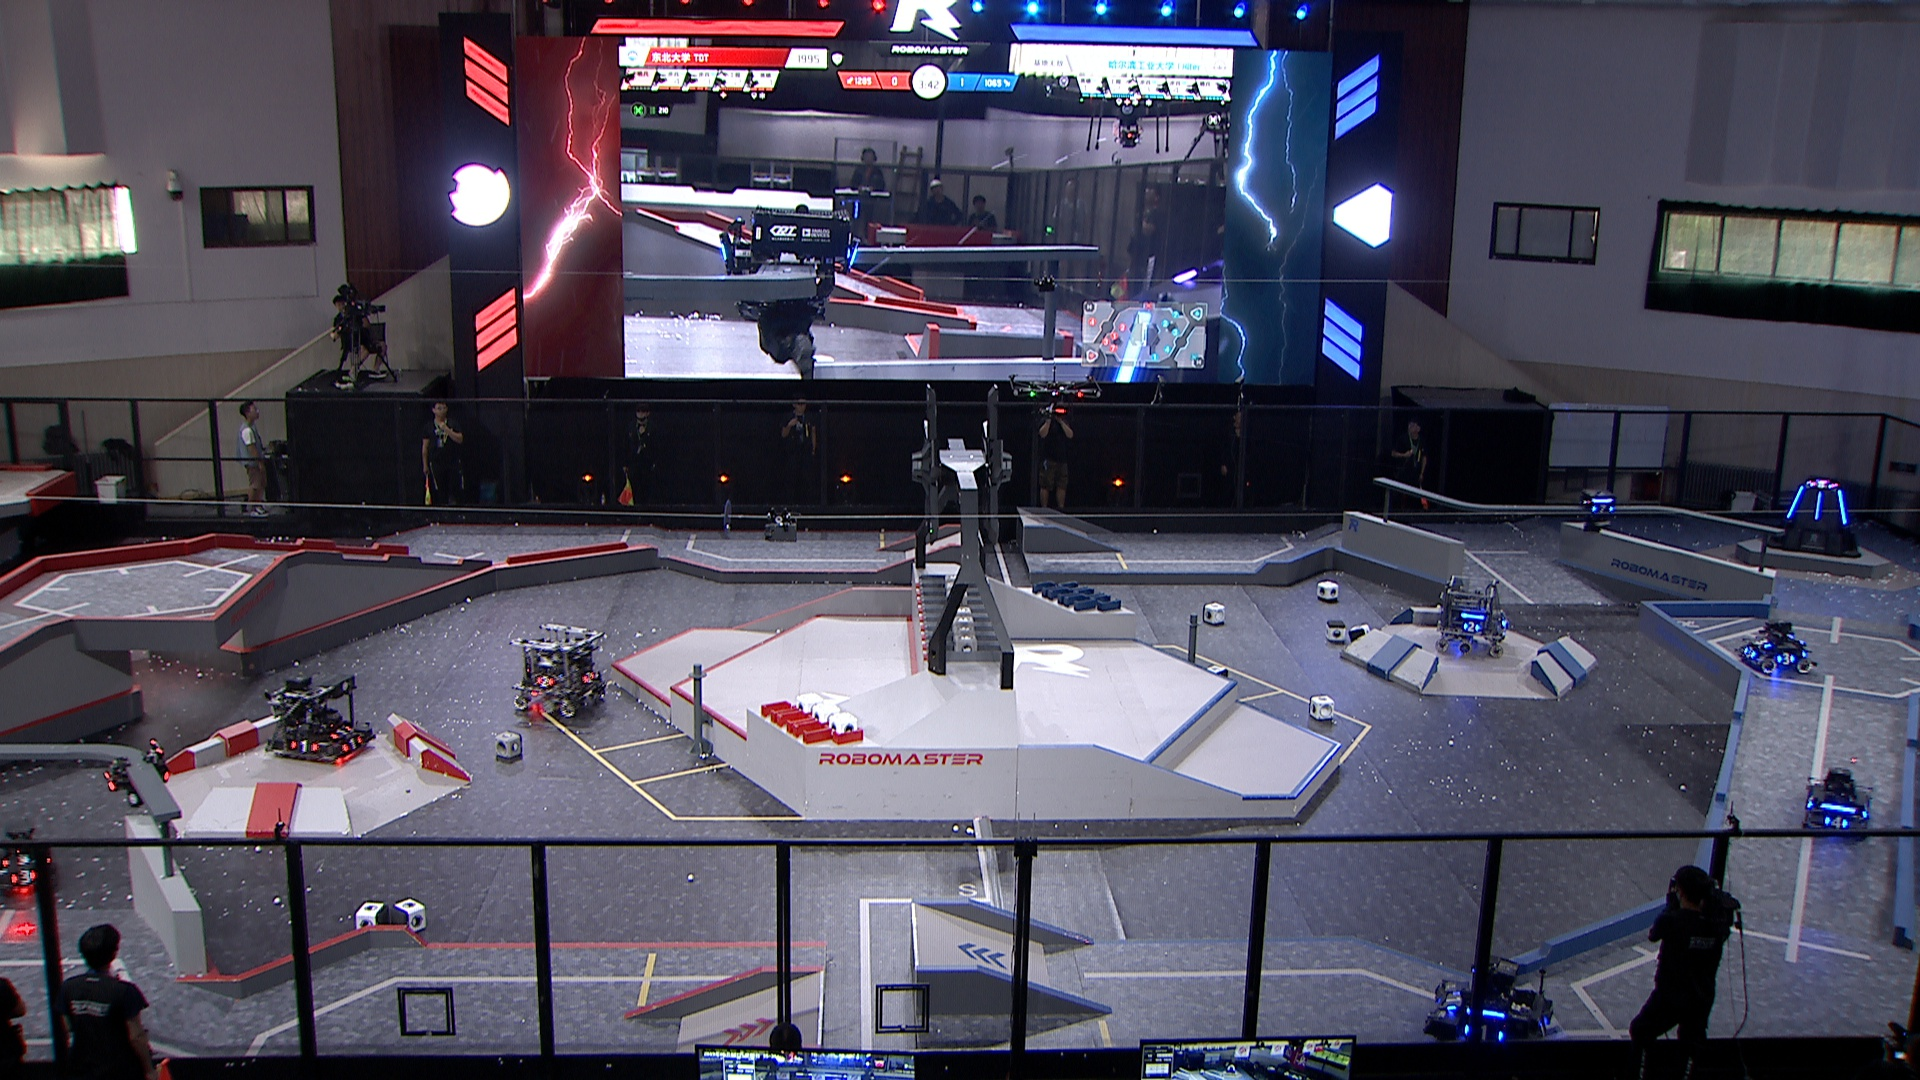armor: (1460, 1021, 1503, 1048), (1443, 984, 1466, 1017), (7, 866, 40, 887), (1, 849, 36, 869), (1787, 483, 1804, 520), (1532, 1010, 1555, 1038), (1821, 812, 1851, 832), (342, 732, 367, 756), (1836, 489, 1850, 527), (1751, 632, 1774, 654), (291, 740, 320, 757), (324, 719, 351, 737), (102, 769, 120, 794), (1590, 498, 1615, 517), (1774, 650, 1797, 669), (1458, 618, 1482, 636), (1859, 800, 1876, 823), (1813, 488, 1825, 520), (579, 666, 596, 687), (535, 674, 556, 688)
base: (1764, 476, 1861, 556)
car: (1423, 955, 1560, 1055), (261, 671, 372, 765), (504, 622, 605, 719), (1432, 567, 1505, 655), (1801, 765, 1876, 844), (1737, 618, 1818, 676)
ignore: (717, 202, 862, 384), (1809, 476, 1836, 491)
watcher: (98, 736, 177, 812), (1577, 487, 1618, 535)
